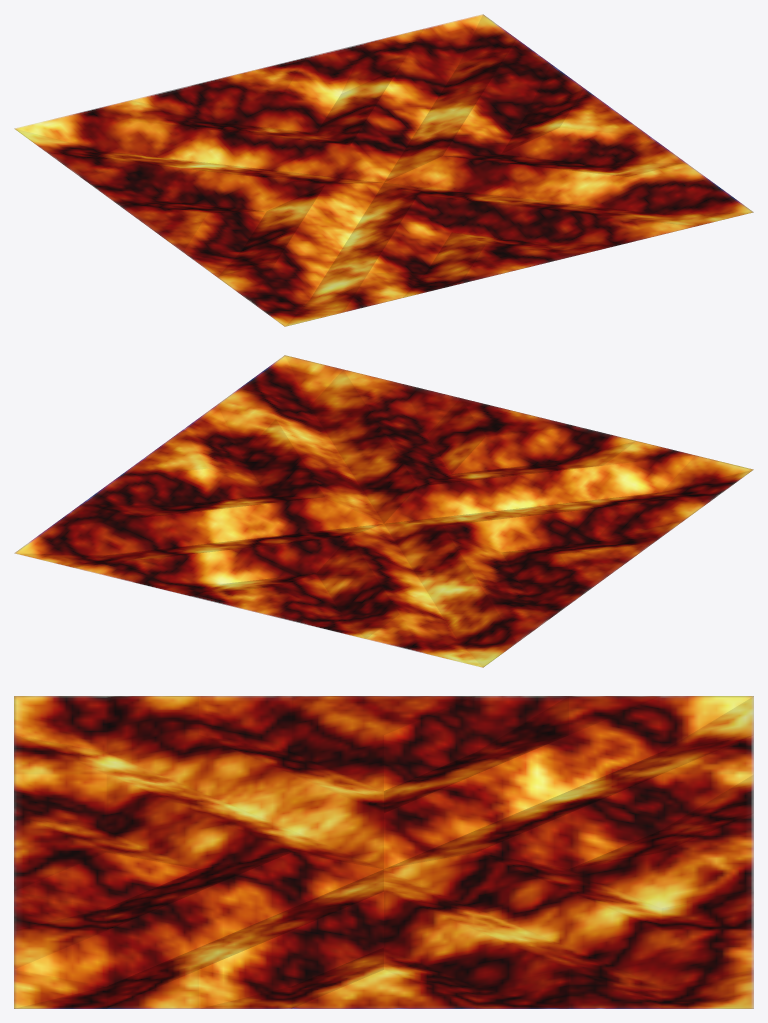
The model's file is LavaOld.obj.
3 renders of one model, top to bottom at view 1: azimuth 30°, elevation 25°; view 2: azimuth 150°, elevation 25°; view 3: azimuth 270°, elevation 25°, orthographic. The views are drawn at different scales.
Visible parts, largest first — view 1: Grid_Grid.003; view 2: Grid_Grid.003; view 3: Grid_Grid.003.
Boxes of the visible parts, x1,y1,x2,y2 form: Grid_Grid.003: (14, 14, 753, 326); Grid_Grid.003: (14, 355, 753, 667); Grid_Grid.003: (14, 696, 753, 1008).
Bounding box in the file's own units: 1 × 0.025 × 1.
